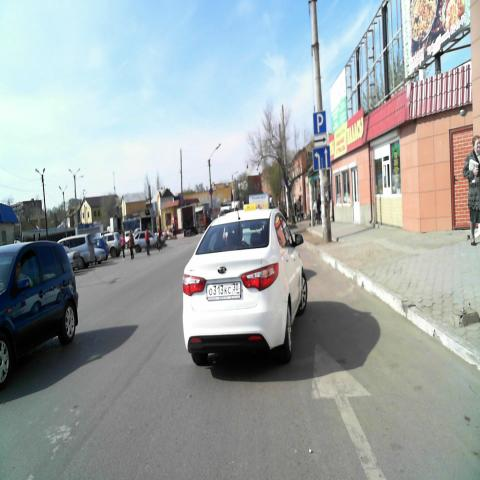8_3_1: (314, 135, 326, 146)
